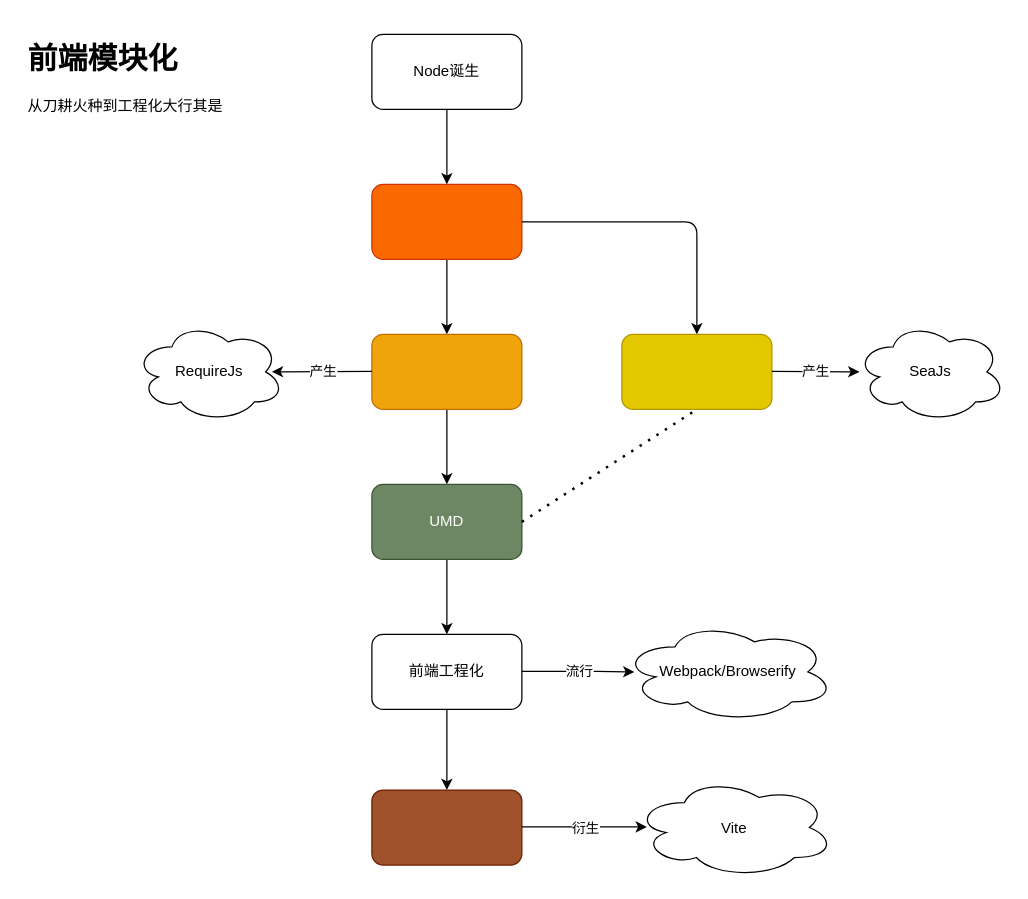
This 1028x899 diagram has some shape labels left out. The shapes that lost their labels are listed below. From the top down, each one's centre as x and y in pixels, then its label:
At pixel 446 221: "CommonJS".
At pixel 446 371: "AMD".
At pixel 696 371: "CMD".
At pixel 446 827: "EsModule".
